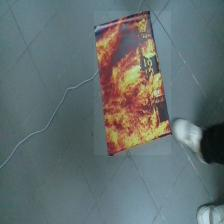fire-poster: (95, 11, 171, 155)
